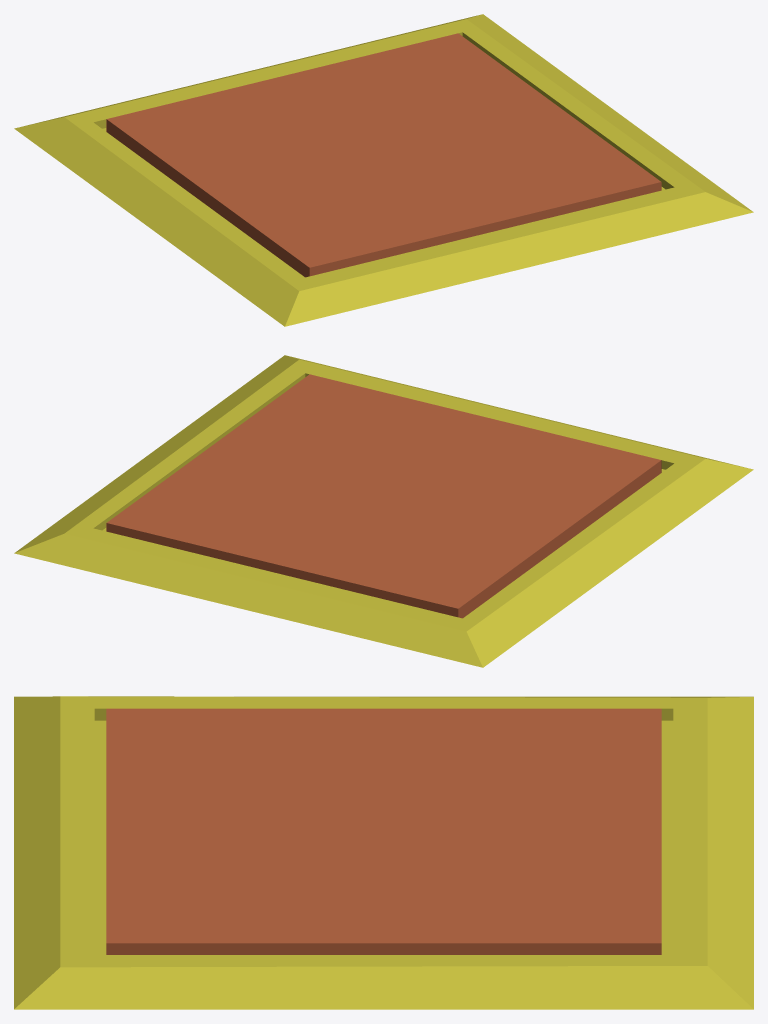
File: Pressureplate.fbx
The picture shows the model from 3 angles, top to bottom: view 1: azimuth 30°, elevation 25°; view 2: azimuth 150°, elevation 25°; view 3: azimuth 270°, elevation 25°; orthographic projection. The views are drawn at different scales.
Parts seen in each view (by area): view 1: PressurePlate, PressurePlateButton; view 2: PressurePlate, PressurePlateButton; view 3: PressurePlate, PressurePlateButton.
Boxes of the visible parts, x1,y1,x2,y2 form: PressurePlate: (106, 33, 661, 277); PressurePlateButton: (14, 14, 753, 326); PressurePlate: (106, 374, 661, 618); PressurePlateButton: (14, 355, 753, 667); PressurePlate: (106, 708, 661, 954); PressurePlateButton: (14, 696, 753, 1009).
Bounding box in the file's own units: 120 × 4.87 × 120.
